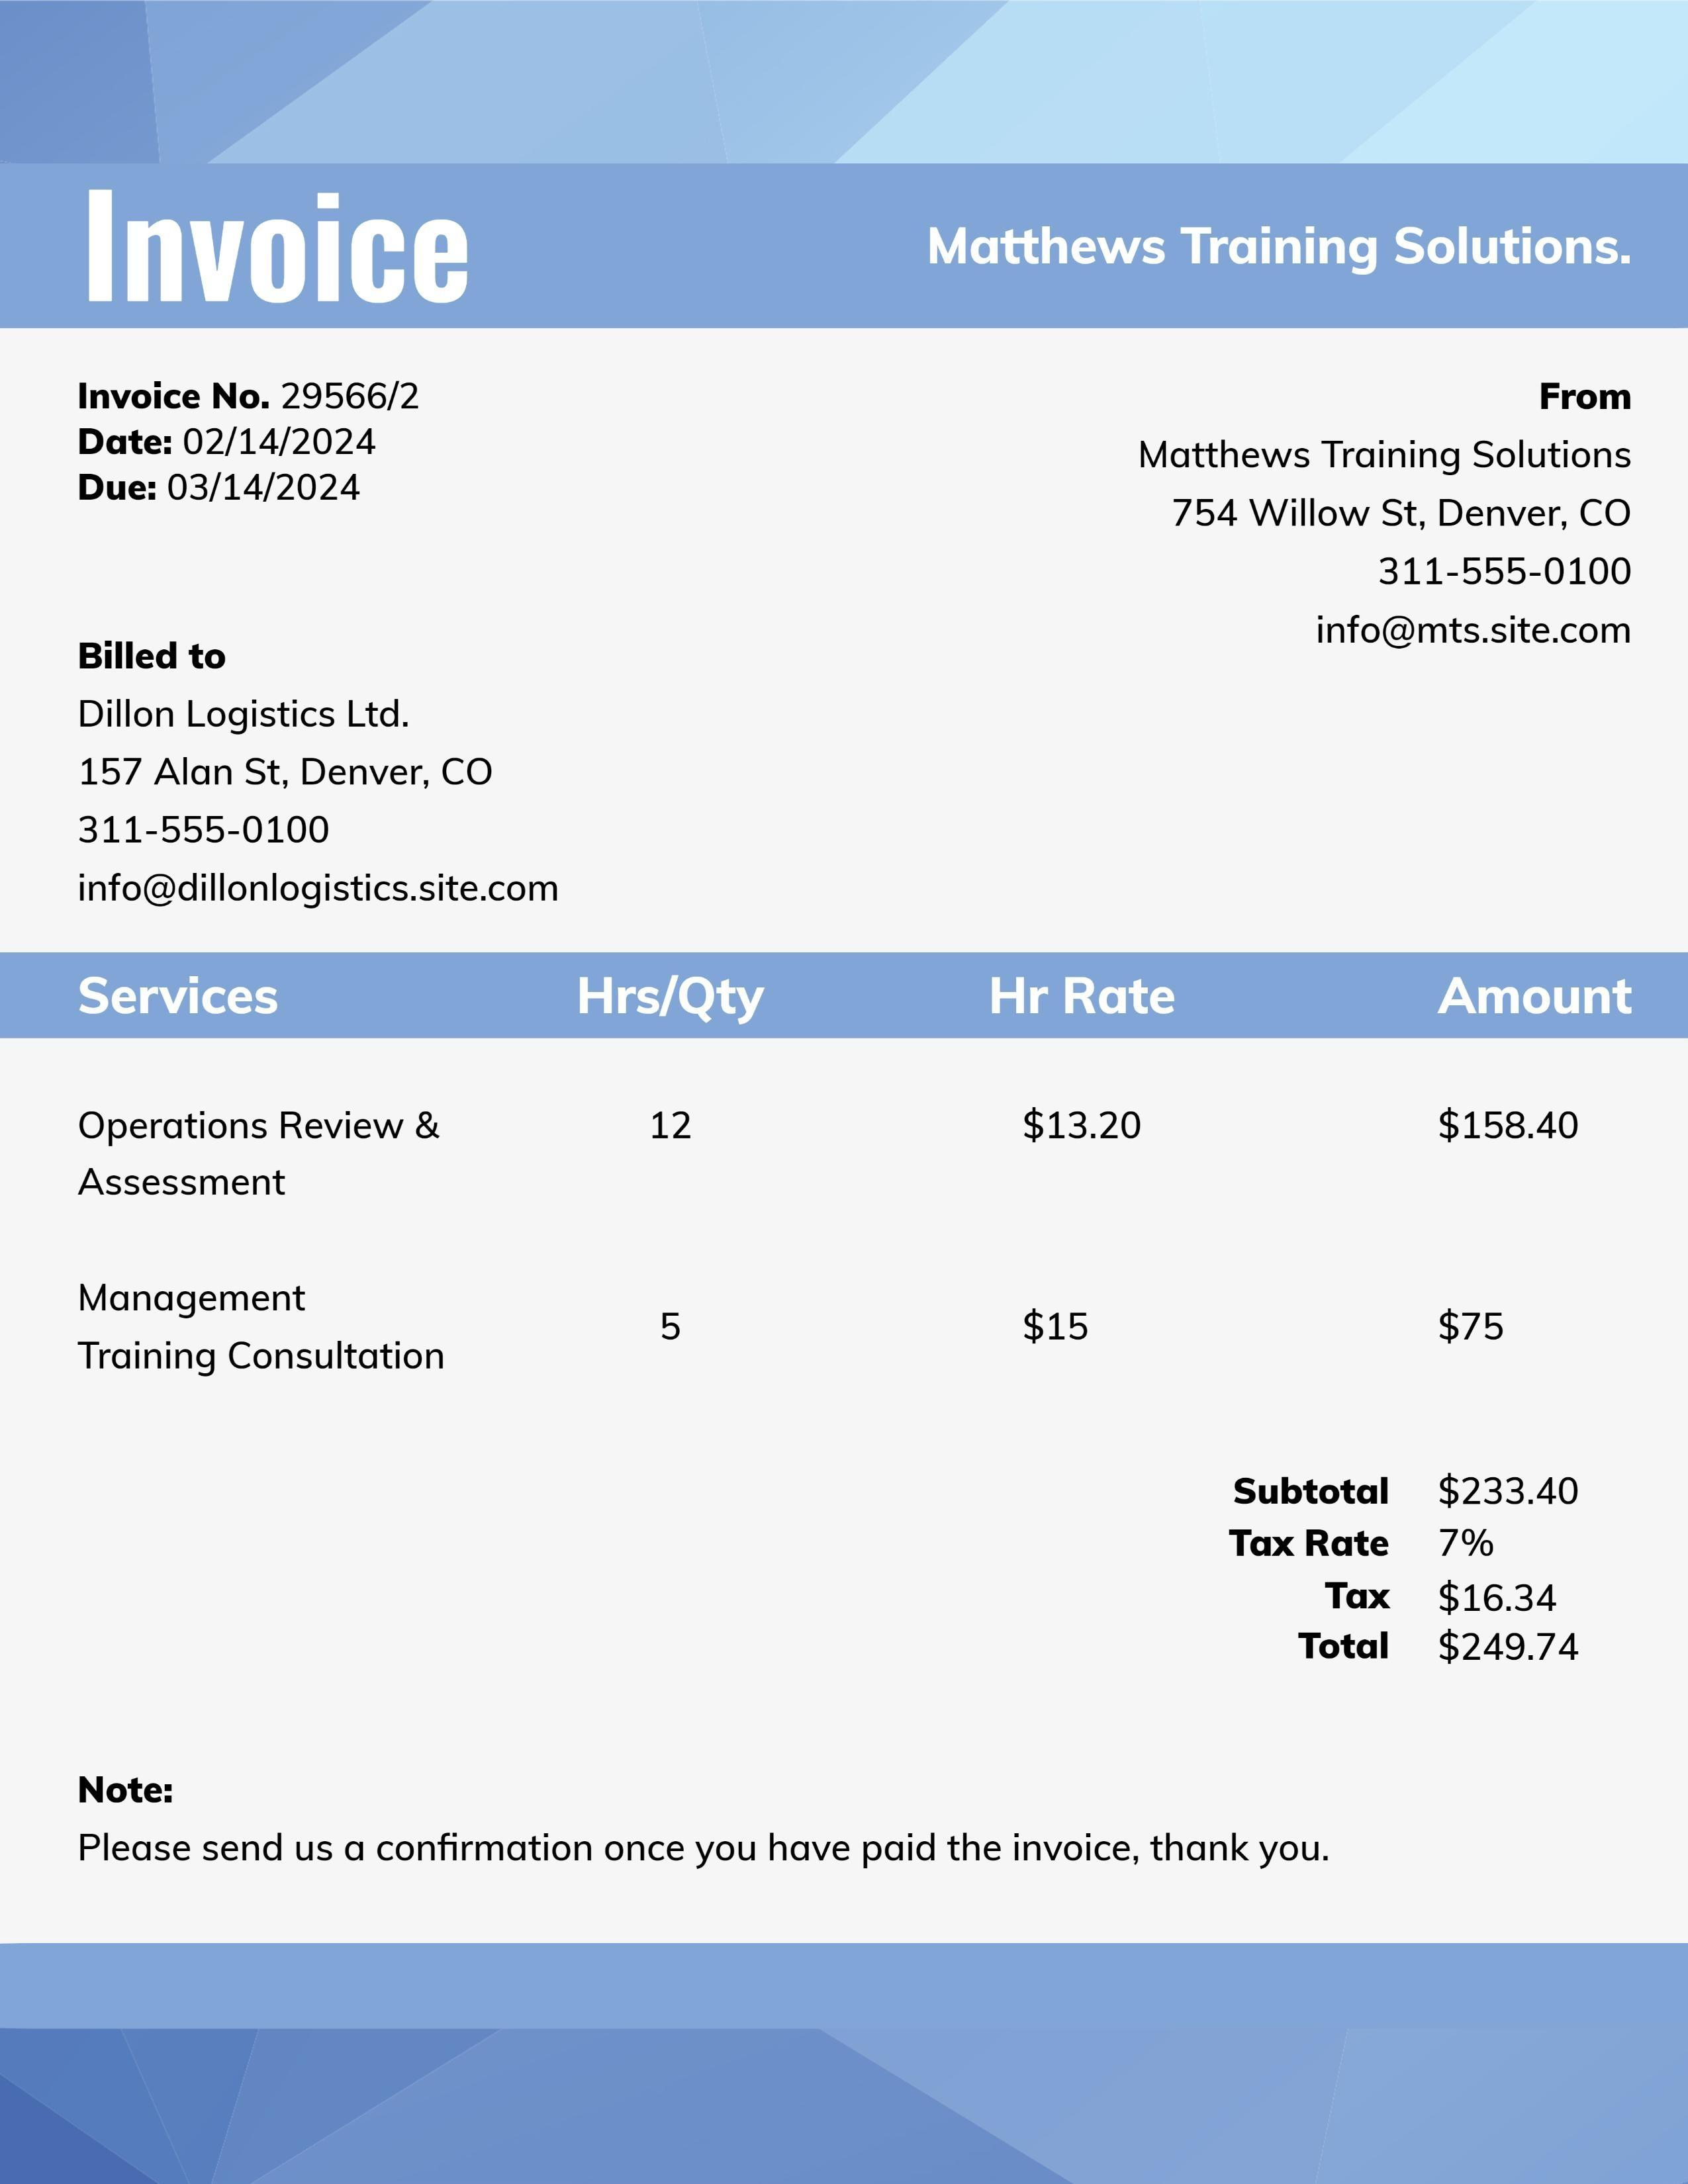ROI: (69, 970, 1640, 1386), (62, 1768, 1333, 1886), (1131, 375, 1640, 670), (73, 635, 571, 917), (1223, 1465, 1595, 1678), (69, 369, 424, 512)
